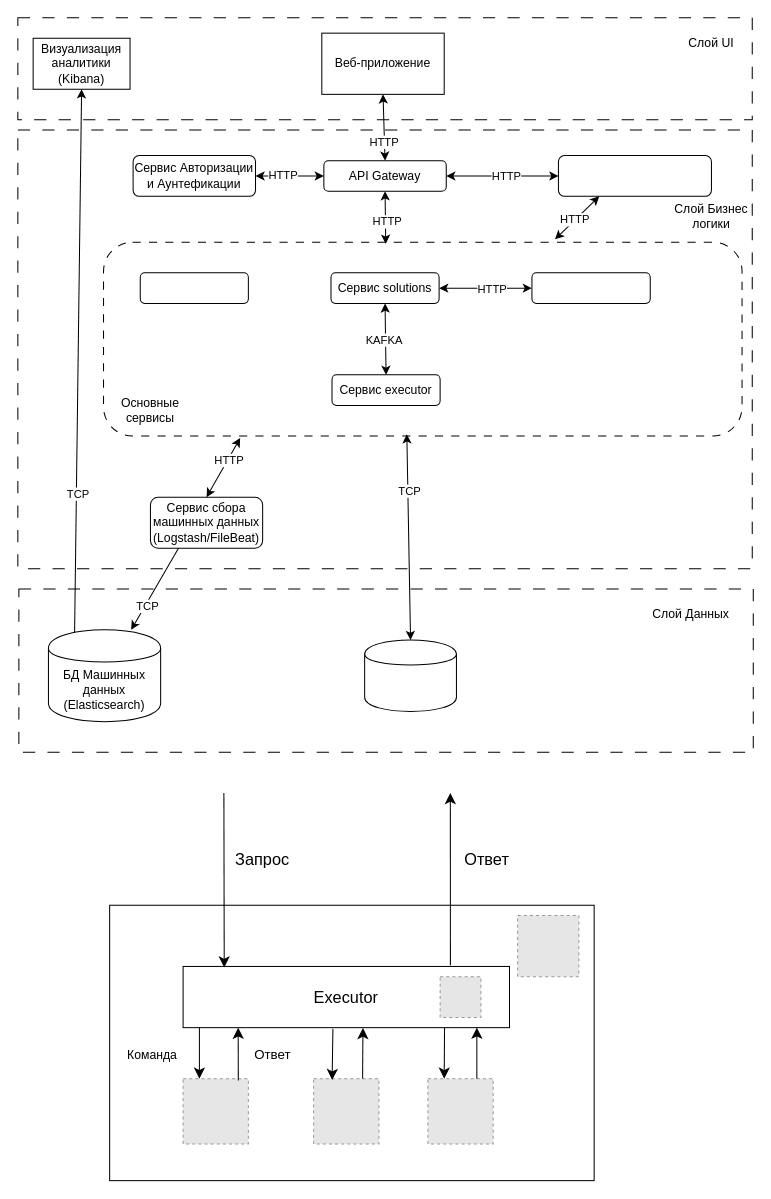
Some shapes in this 771 by 1199 pixel diagram are drawn without their labels. Grey dashed boxes stand in for pictures. The shapes that lost their labels are listed below. From the top down, each one's centre as x and y in pixels, then its label:
(x=634, y=175): Сервис обнаружения служб
(x=193, y=287): Сервис user
(x=590, y=287): Сервис task
(x=410, y=675): БД Приложения
